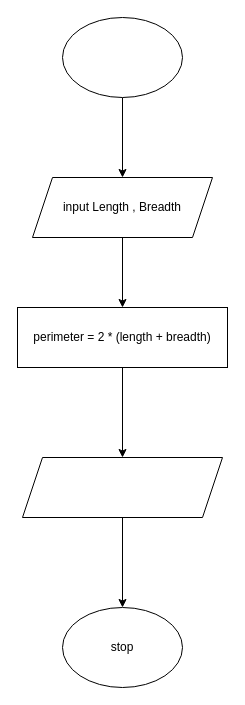
This 245x705 diagram has some shape labels left out. The centre of each missing label's shape, as x and y in pixels:
"print perimeter" belongs at [122,487].
"start" belongs at [122,57].
